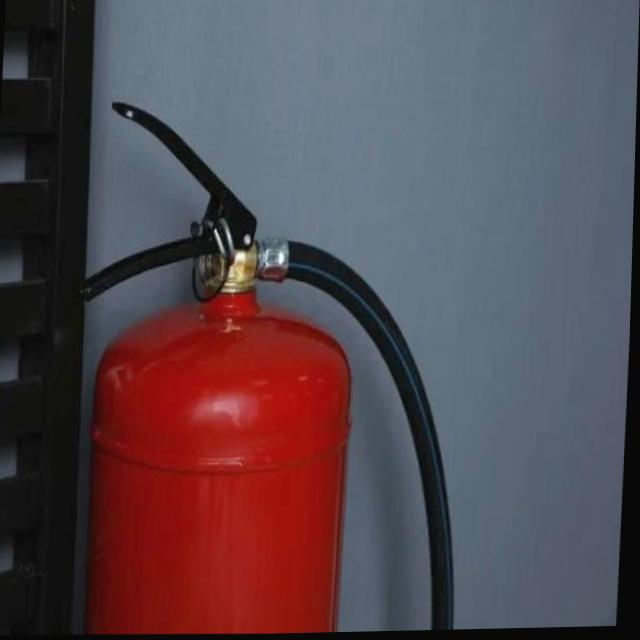FireExtinguisher: (58, 83, 483, 639)
